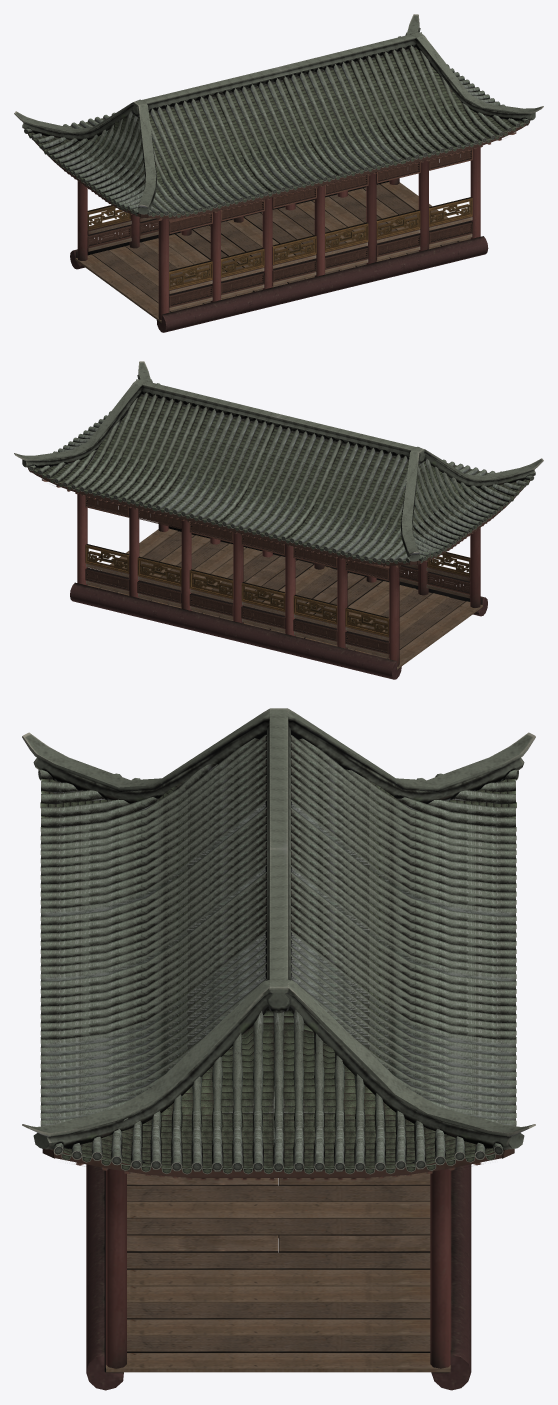
Rendered from corridor.glb.
The picture shows the model from 3 angles, top to bottom: view 1: azimuth 30°, elevation 25°; view 2: azimuth 150°, elevation 25°; view 3: azimuth 270°, elevation 25°; orthographic projection. The views are drawn at different scales.
Parts seen in each view (by area): view 1: Object_2; view 2: Object_2; view 3: Object_2.
Part boxes in pixels (<box>): Object_2: <box>14,14,543,332</box>; Object_2: <box>14,361,543,679</box>; Object_2: <box>22,708,535,1390</box>.
Bounding box in the file's own units: 105 × 47.61 × 57.64.
Materials: 1 (1 with a texture image).
